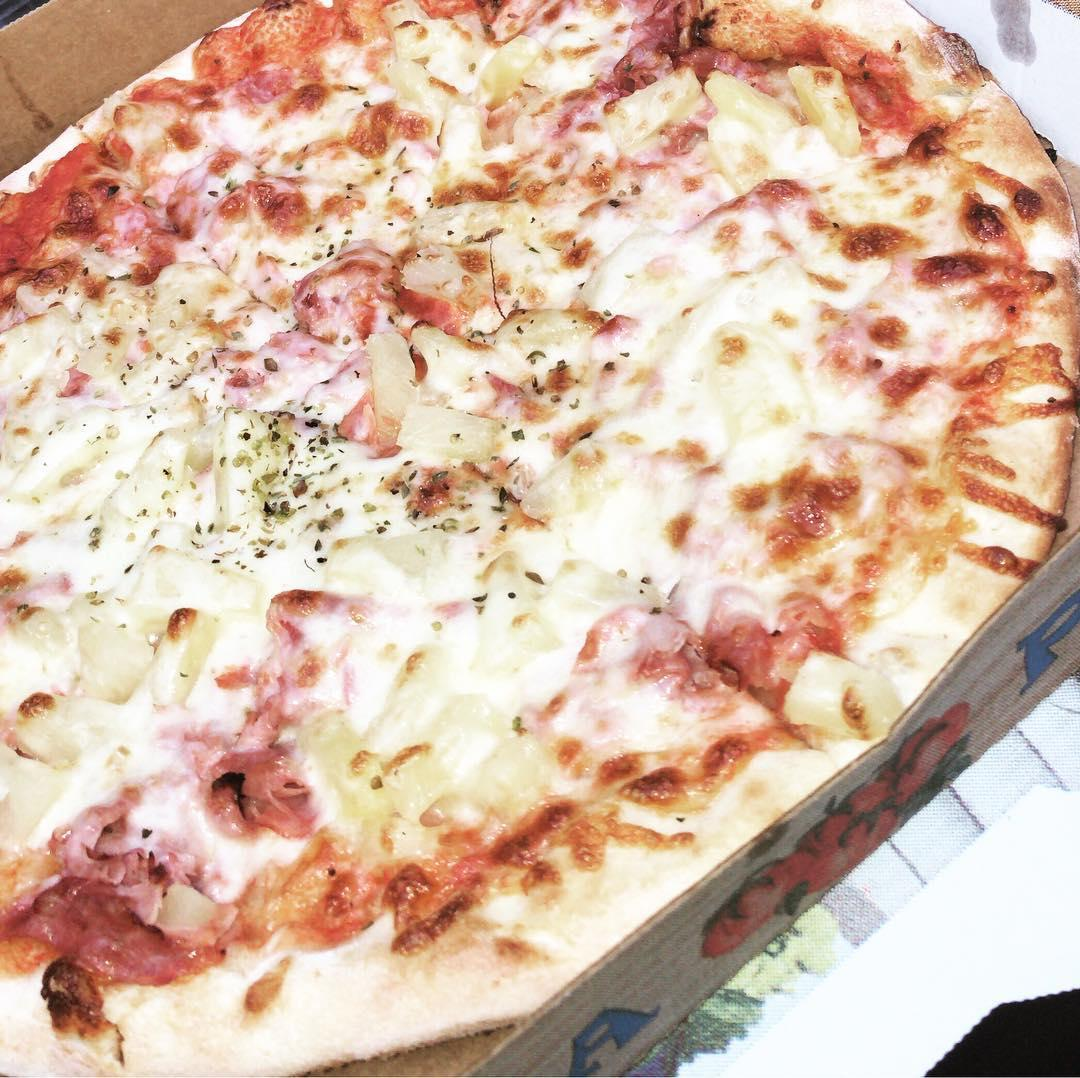Ham: (561, 591, 811, 767), (31, 793, 199, 955), (229, 276, 395, 415), (158, 678, 322, 810), (246, 581, 420, 685), (551, 43, 670, 151), (88, 171, 200, 274)
Pizza: (0, 1, 1080, 1078)
